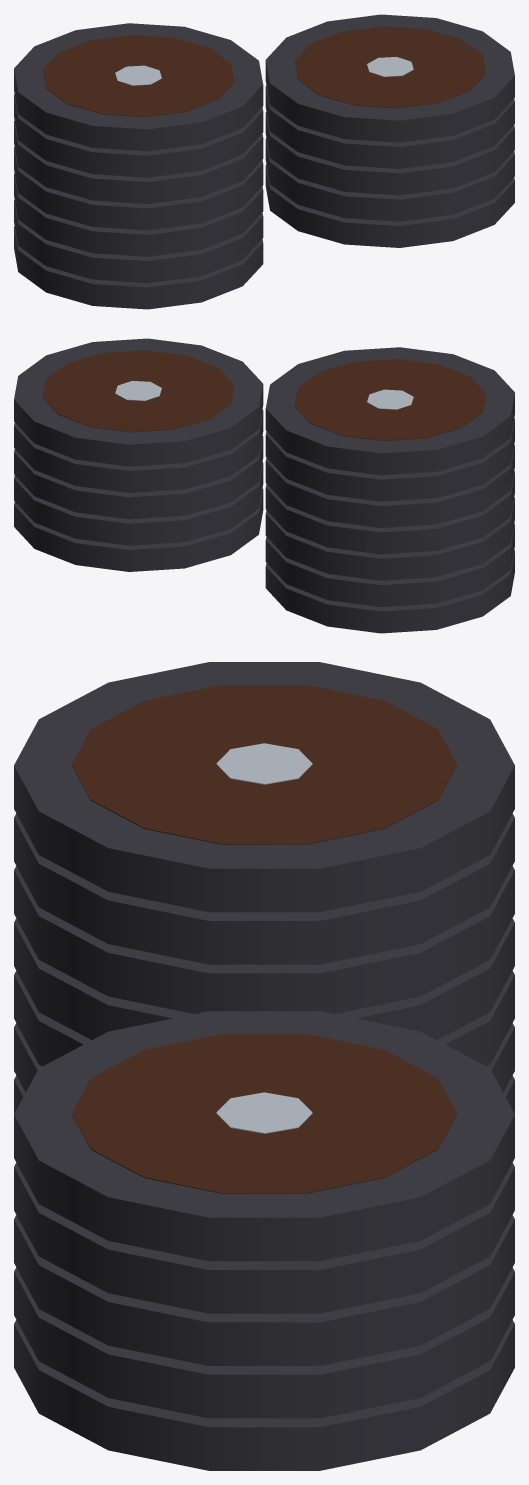
File: tape_reel_stack.glb
The picture shows the model from 3 angles, top to bottom: view 1: azimuth 30°, elevation 25°; view 2: azimuth 150°, elevation 25°; view 3: azimuth 270°, elevation 25°; orthographic projection. The views are drawn at different scales.
Parts seen in each view (by area): view 1: tape_reel_stack; view 2: tape_reel_stack; view 3: tape_reel_stack.
Part boxes in pixels (box(x1,y1,x2,y2)): tape_reel_stack: box(14, 14, 514, 309); tape_reel_stack: box(14, 338, 514, 633); tape_reel_stack: box(14, 662, 514, 1470).
Size of the model in its own units: 1.11 by 0.414 by 0.52.
